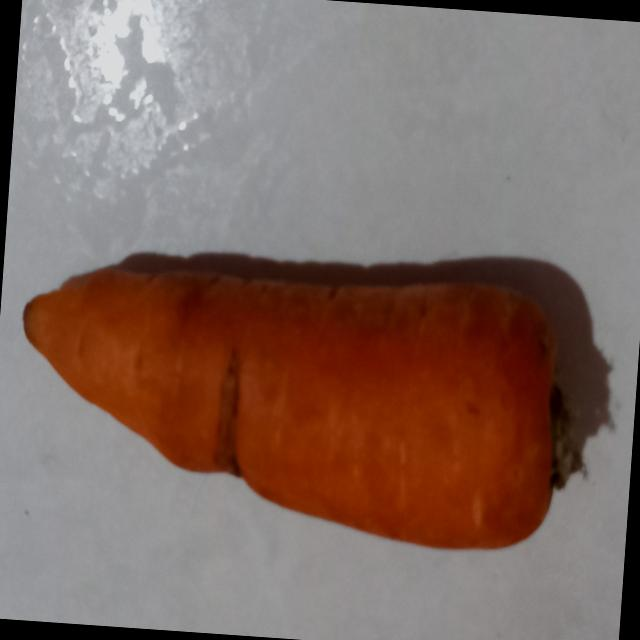carrot: (23, 268, 578, 548)
